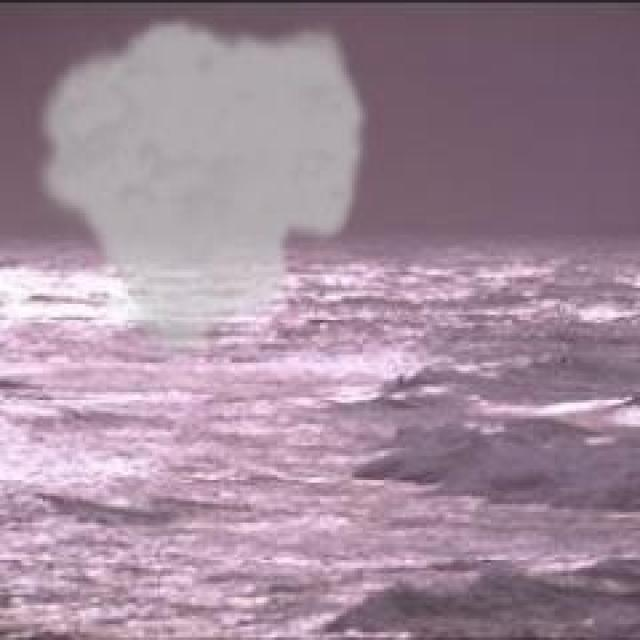smoke: (28, 14, 372, 366)
